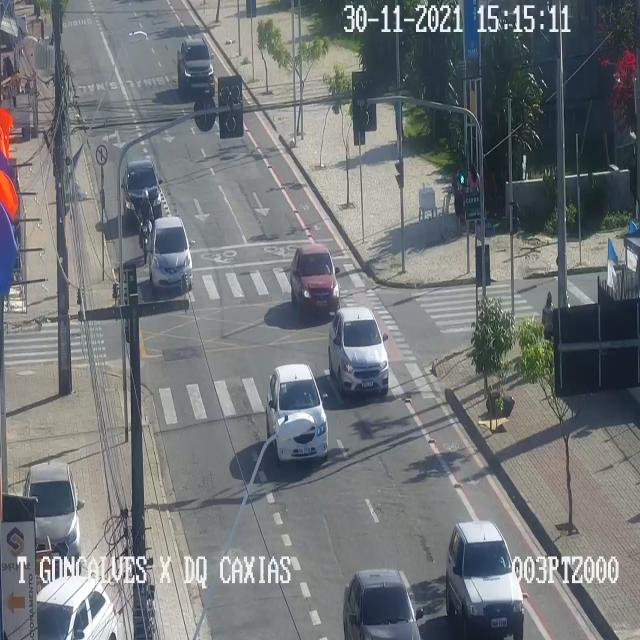Car: (446, 520, 522, 638), (24, 462, 80, 572), (267, 364, 327, 459), (342, 569, 420, 639), (328, 306, 388, 394), (36, 575, 116, 639), (290, 242, 339, 314), (148, 216, 192, 289), (121, 159, 161, 220), (177, 38, 214, 95)
Motorcycle: (138, 188, 153, 262)
